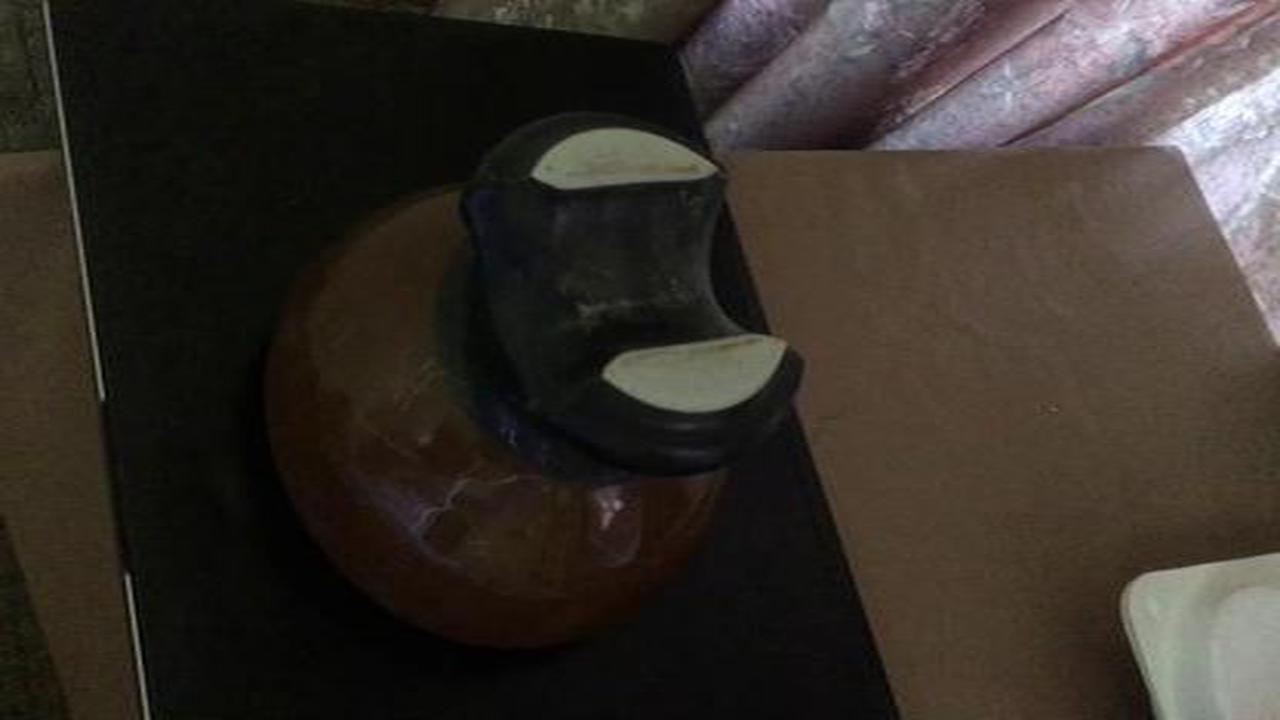insulator_pin: (231, 91, 834, 670)
